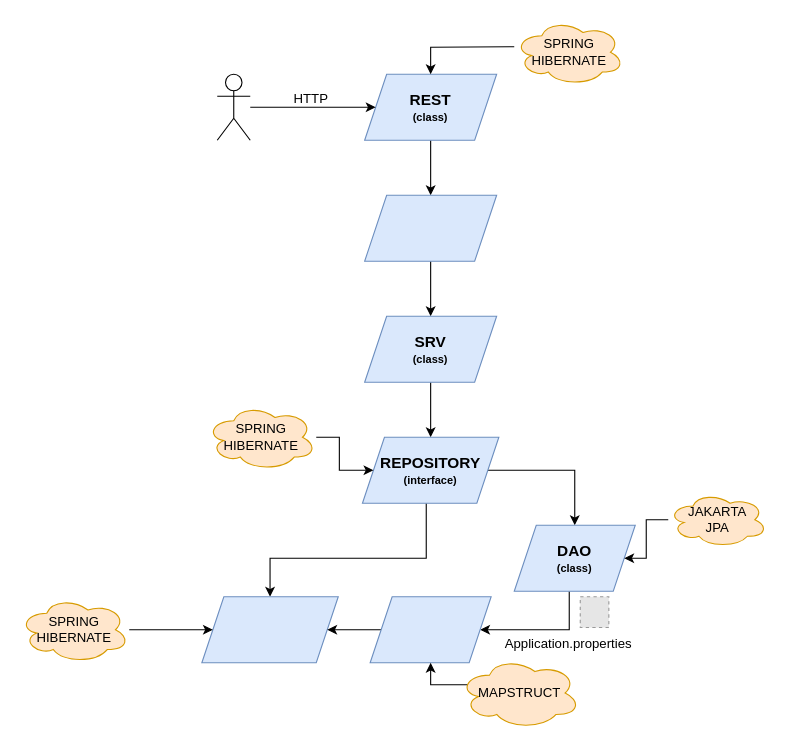
This 787x748 diagram has some shape labels left out. Grey dashed boxes stand in for pictures. Each missing label, with the box of its shape:
API (interface): (364, 194, 497, 261)
BBDD (container): (201, 596, 338, 663)
MAPPER (interface): (369, 596, 491, 663)
User: (216, 73, 250, 140)
